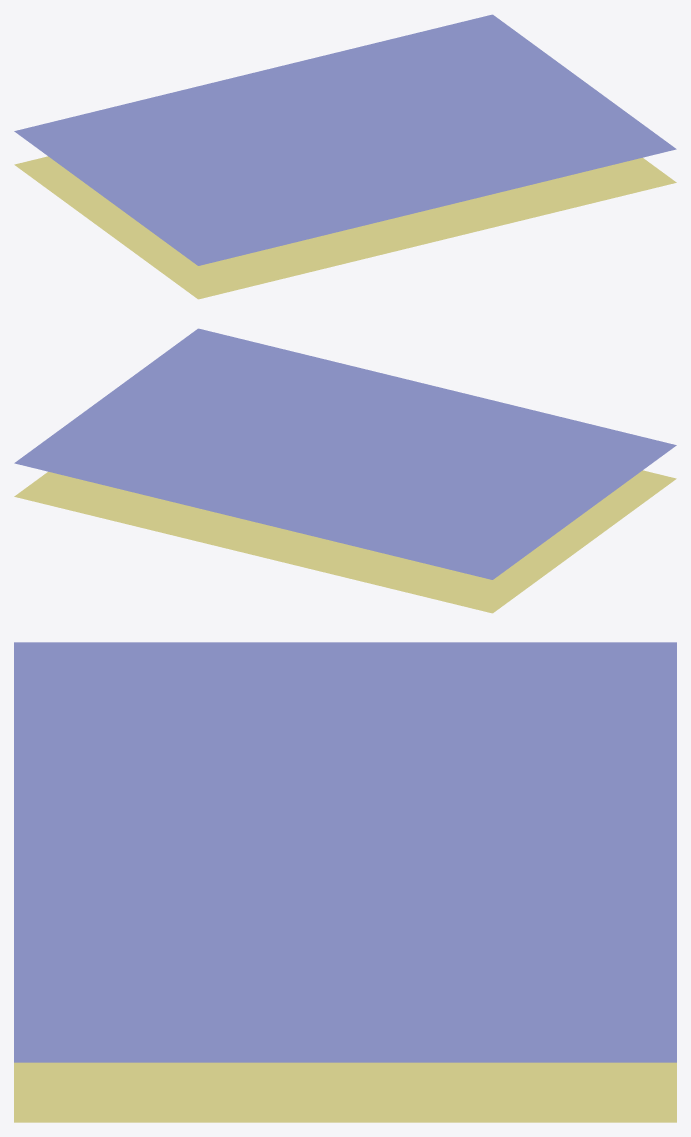
The model's file is In_3x2_Floor.FBX.
The picture shows the model from 3 angles, top to bottom: view 1: azimuth 30°, elevation 25°; view 2: azimuth 150°, elevation 25°; view 3: azimuth 270°, elevation 25°; orthographic projection. The views are drawn at different scales.
Visible parts, largest first — view 1: In_3x2_Floor; view 2: In_3x2_Floor; view 3: In_3x2_Floor.
Part boxes in pixels (<box>): In_3x2_Floor: <box>14,14,676,299</box>; In_3x2_Floor: <box>14,328,676,613</box>; In_3x2_Floor: <box>14,642,676,1122</box>.
Bounding box in the file's own units: 300 × 20 × 200.
